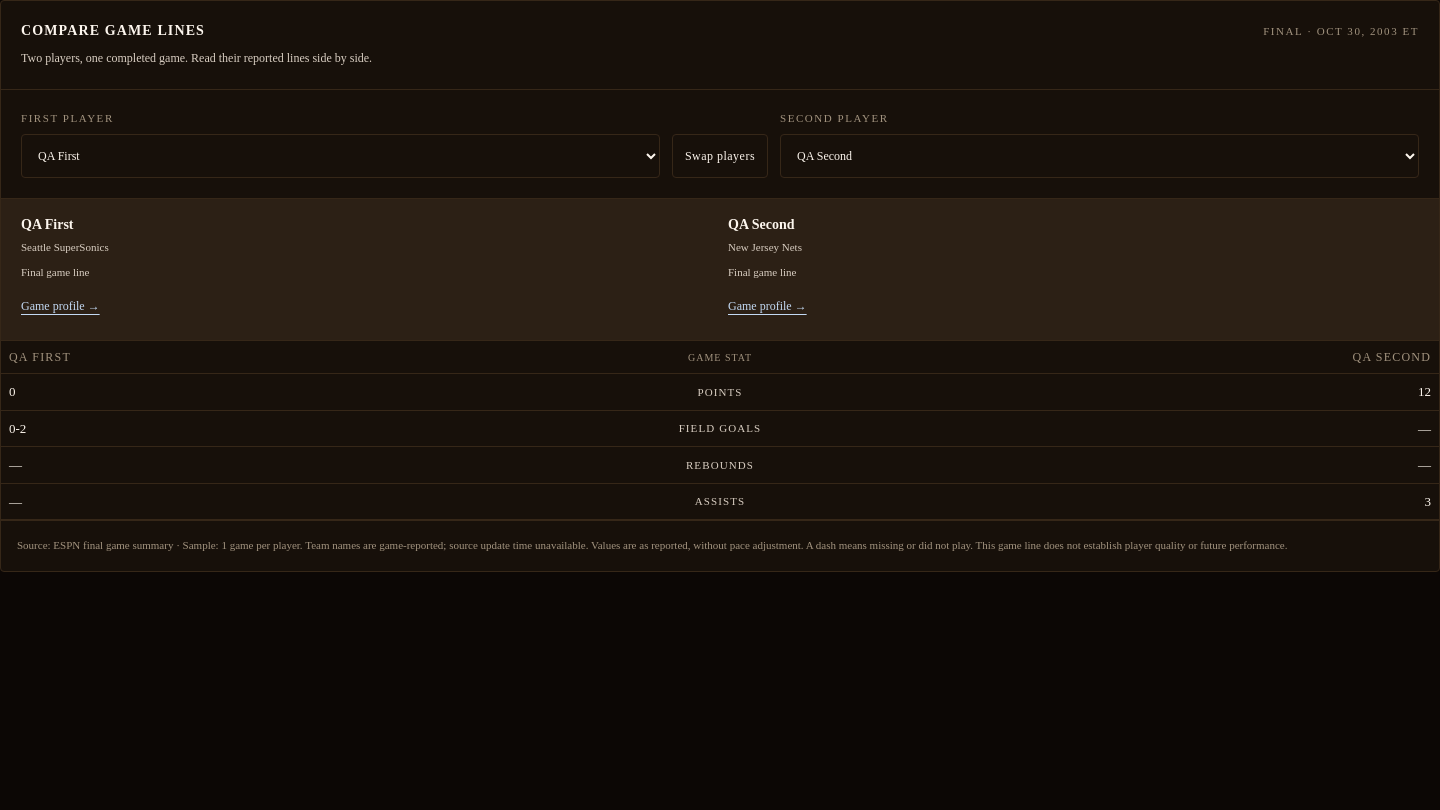
it: supports DNP selection, distinct choices and a shareable URL without fabricating zeros
Select "QA Reserve · DNP" in the dropdown labelled "First player" at (340, 156), box [21,134,660,178]
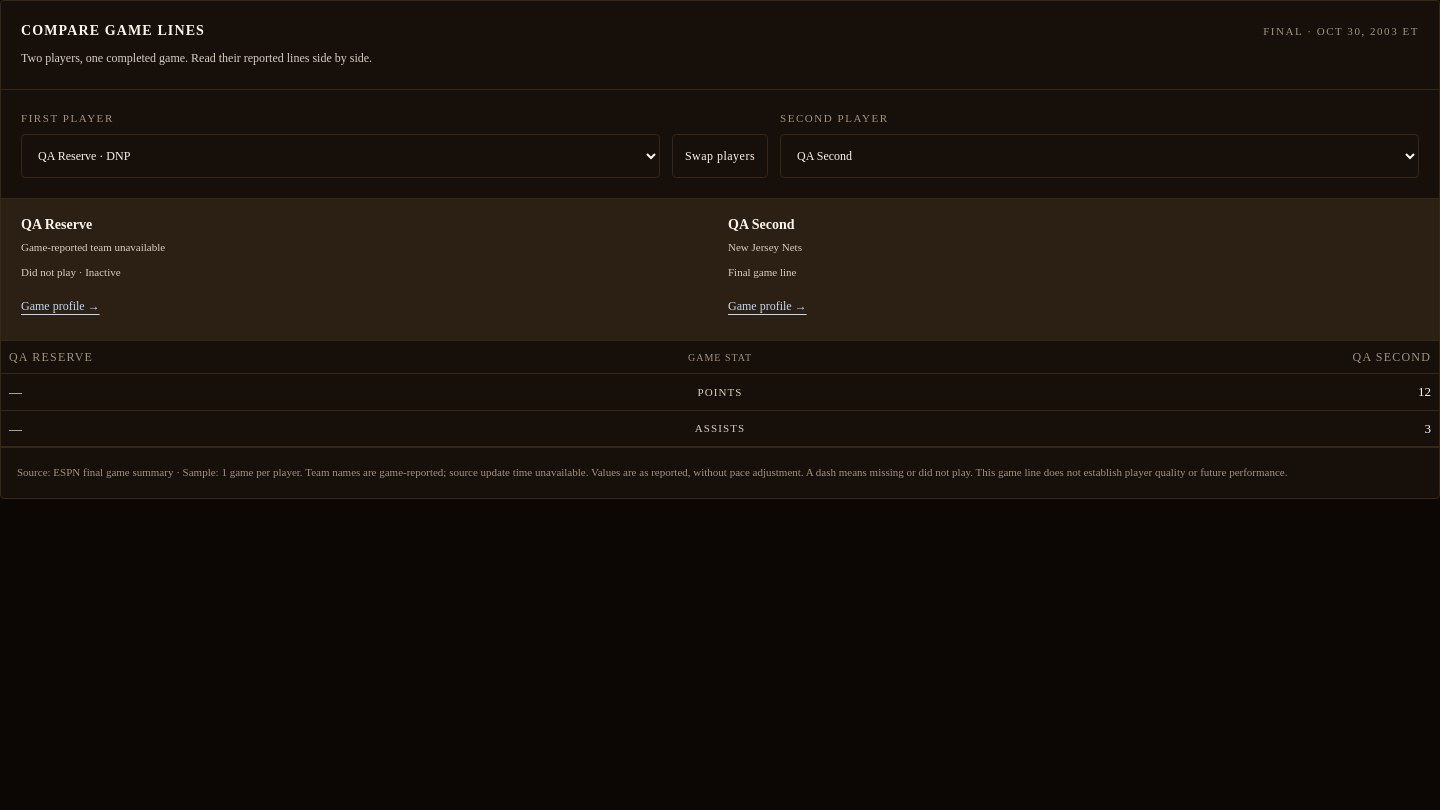
Result: the text "Did not play · Inactive" is shown at [21,266,121,278]
Result: the text "Game-reported team unavailable" is shown at [21,241,165,253]
Result: the cell "—" in the row of "Points" is shown at [9,384,22,399]
